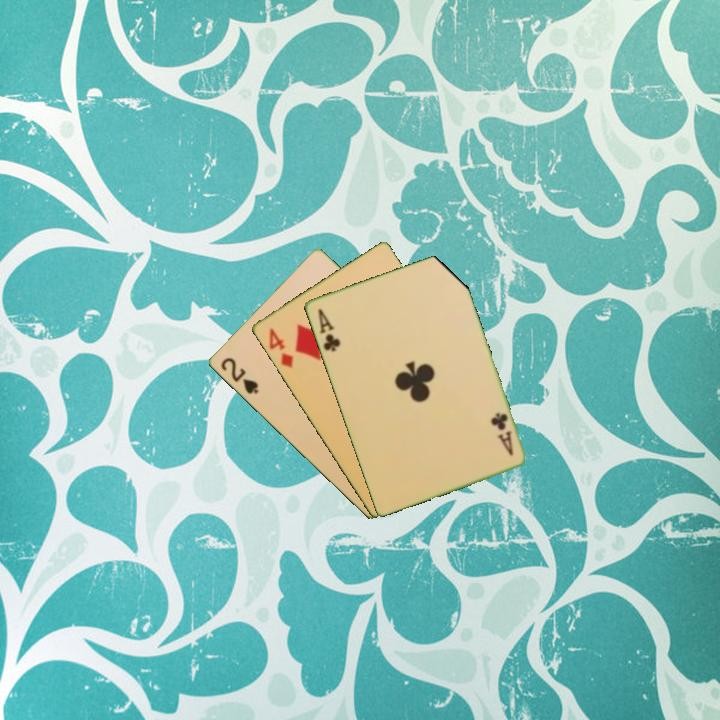2s: (217, 354, 261, 397)
4d: (265, 324, 296, 371)
Ac: (314, 305, 343, 354), (487, 409, 516, 458)
